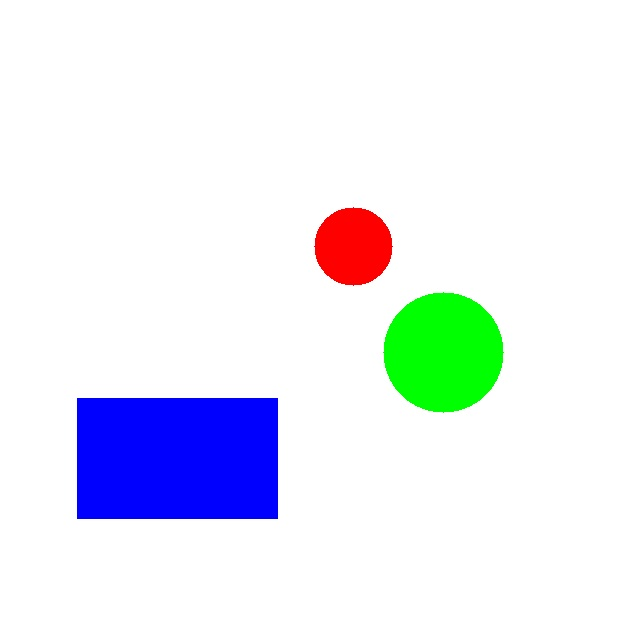cartao: (77, 398, 277, 518)
rosca_externa: (383, 292, 503, 412)
rosca_interna: (314, 207, 392, 285)
